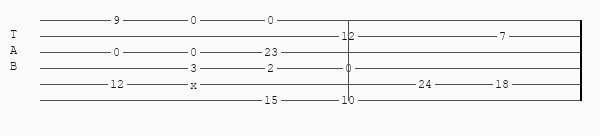0: (113, 46, 124, 58), (190, 46, 201, 58), (190, 14, 201, 26), (267, 14, 278, 26), (345, 62, 356, 74)
10: (341, 94, 359, 106)
12: (110, 78, 128, 90), (341, 30, 359, 42)
15: (264, 94, 282, 106)
18: (495, 78, 513, 90)
2: (267, 62, 278, 74)
23: (264, 46, 282, 58)
24: (418, 78, 436, 90)
3: (190, 62, 201, 74)
7: (499, 30, 510, 42)
9: (113, 14, 124, 26)
x: (190, 79, 201, 89)
